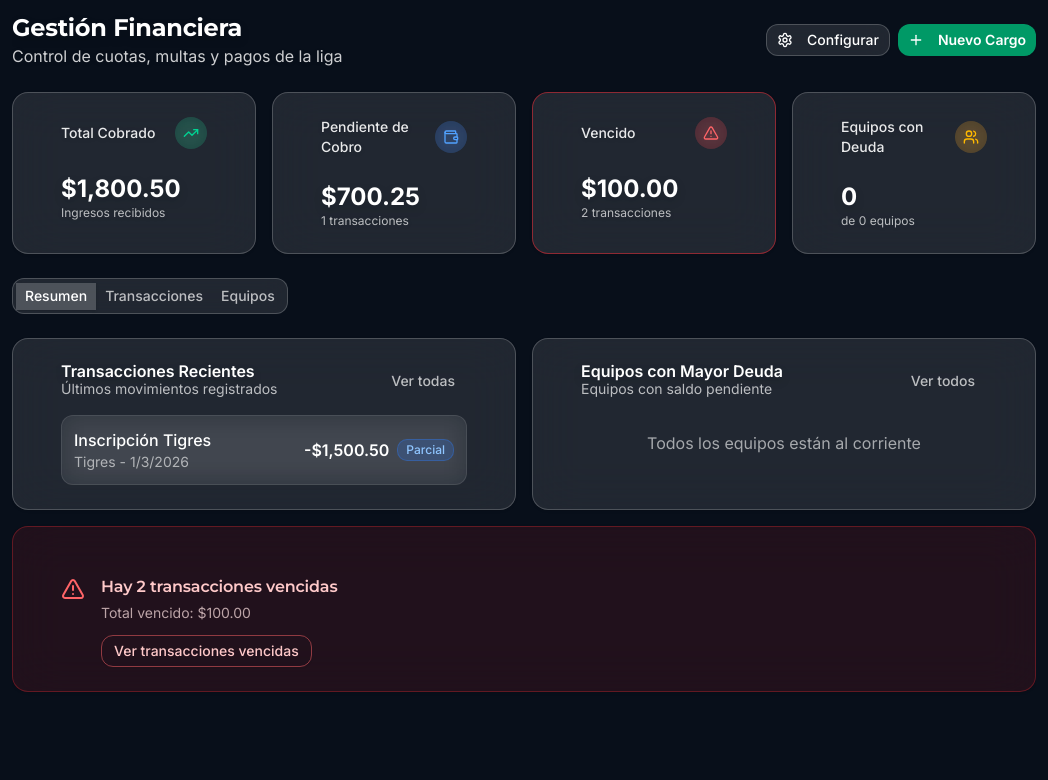
Finance: transaction filters › shows the player name and number under the description
Click the tab "Transacciones" at (154, 296), box [96,282,212,310]
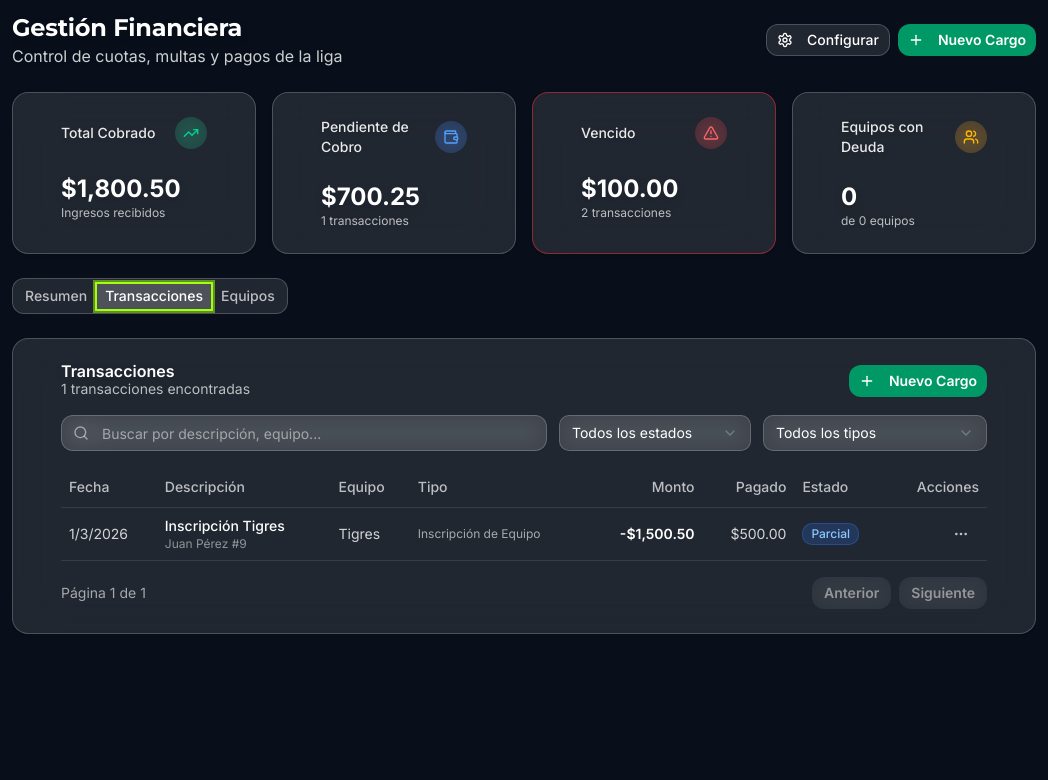
Result: the text "Juan Pérez #9" is shown at [165,536,247,550]
